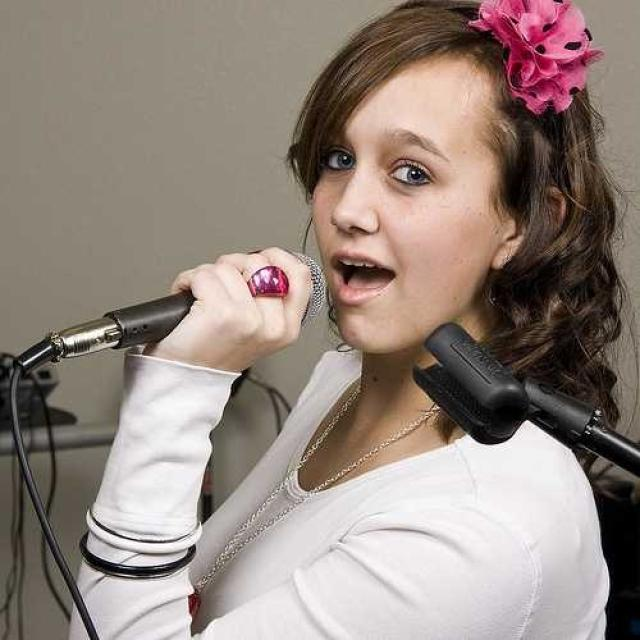microphone: (25, 252, 320, 374)
